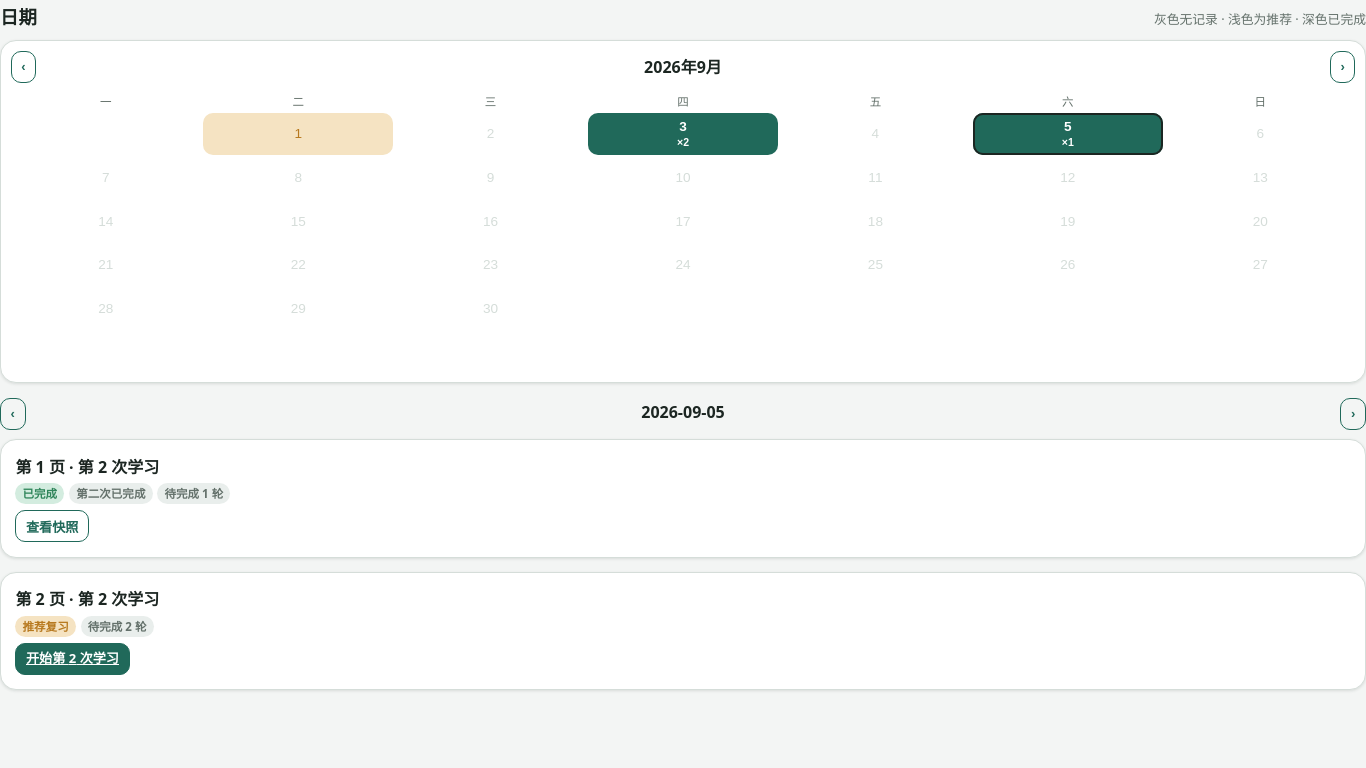
Test: 日期历史页 › 查看快照弹窗展示单词顺序和完成前状态
The width and height of the screenshot is (1366, 768).
Click the button named "2026-09-03": click(683, 134) left=588, top=113, right=778, bottom=155
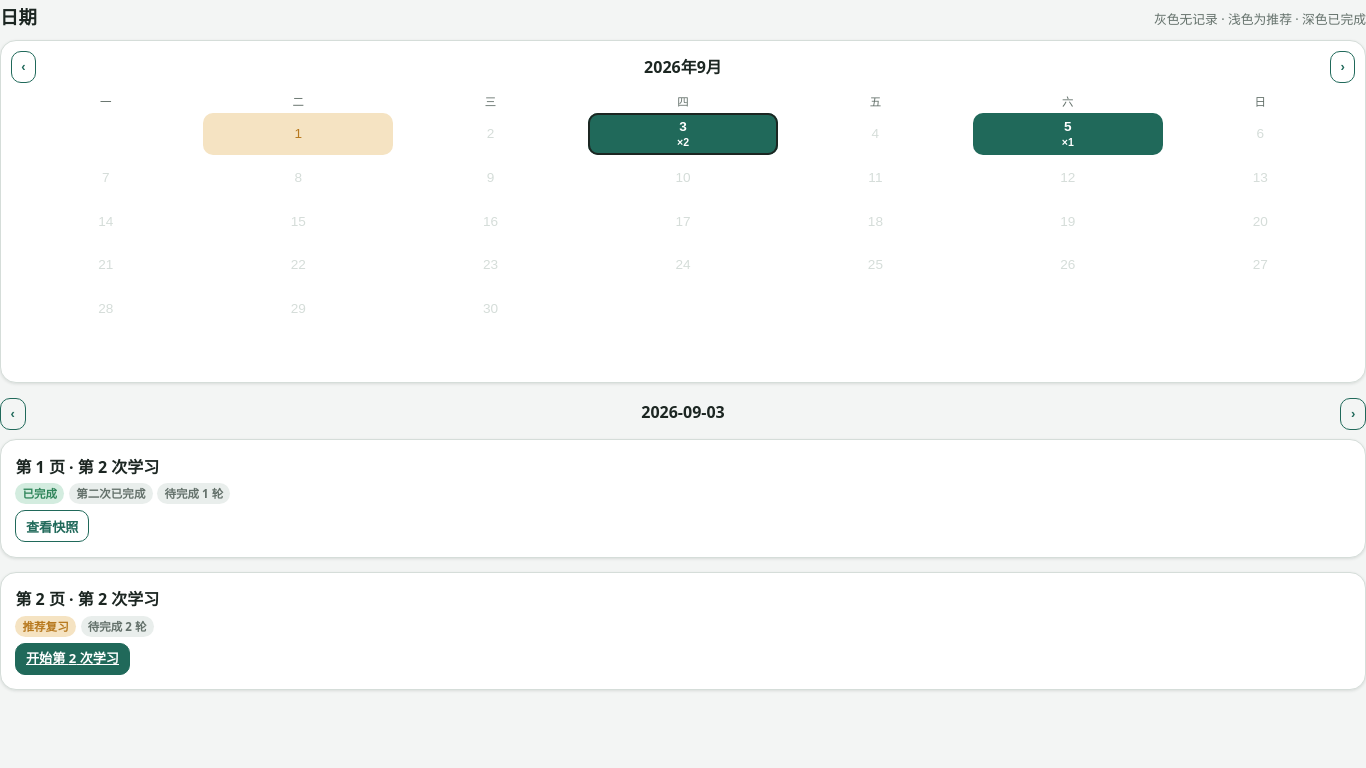
Click the button "查看快照": click(52, 526) left=15, top=510, right=89, bottom=542
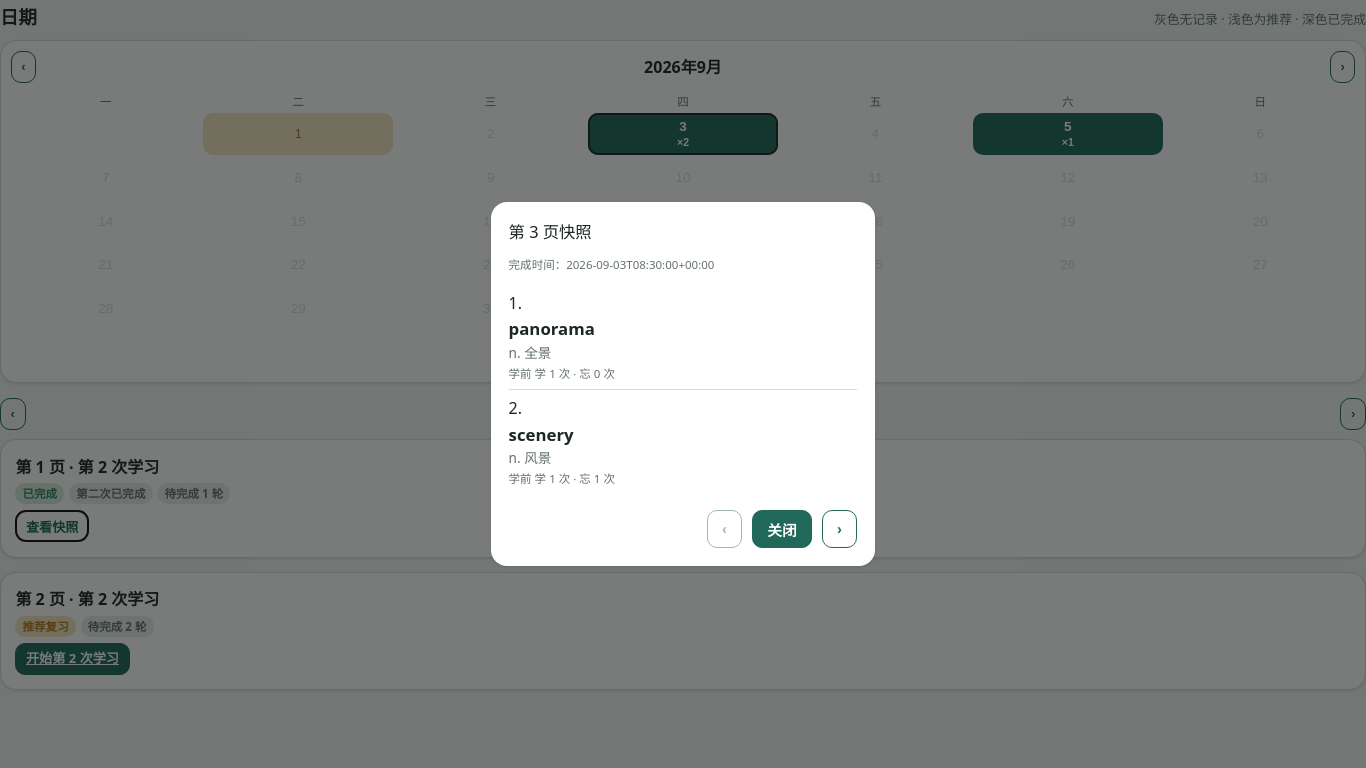
Expected: the text "panorama" is shown, left=509, top=317, right=595, bottom=340
Expected: the text "n. 全景" is shown, left=509, top=343, right=551, bottom=362
Expected: the text "scenery" is shown, left=509, top=423, right=574, bottom=446
